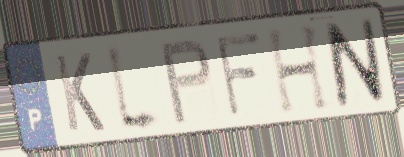F: (213, 29, 265, 122)
H: (263, 20, 334, 118)
K: (51, 50, 108, 135)
L: (103, 38, 169, 138)
N: (322, 15, 388, 110)
P: (158, 36, 215, 128)
